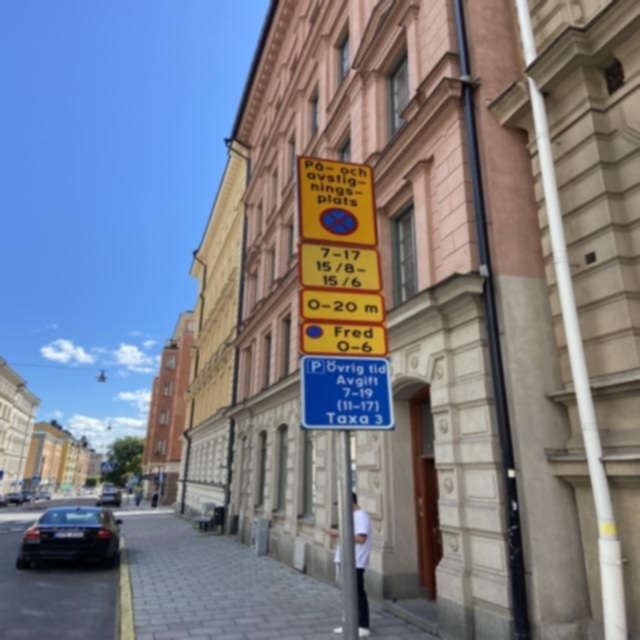avstignnigsplats: (300, 154, 377, 248)
